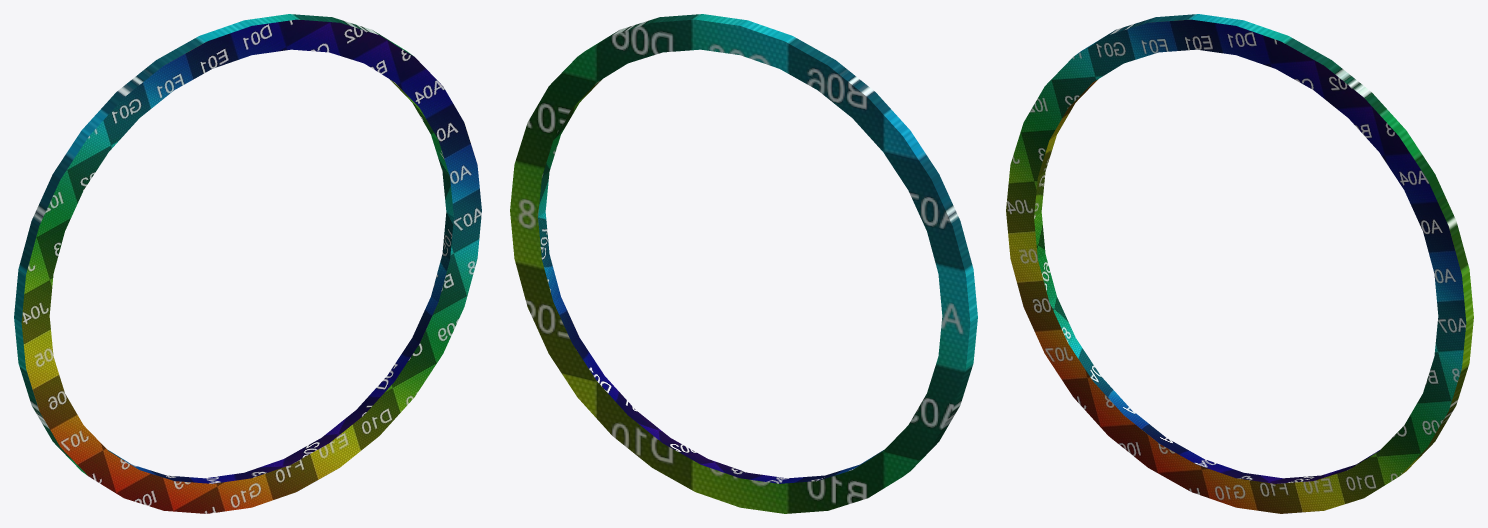
The model's file is ring2.fbx.
3 views of the same model, side by side, from view 1: azimuth 30°, elevation 25°; view 2: azimuth 150°, elevation 25°; view 3: azimuth 330°, elevation 25° (orthographic).
Parts seen in each view (by area): view 1: 柱体; view 2: 柱体; view 3: 柱体.
Boxes of the visible parts, bbox=[...] form: 柱体: bbox=[14, 14, 481, 513]; 柱体: bbox=[510, 14, 977, 513]; 柱体: bbox=[1006, 14, 1473, 513].
Bounding box in the file's own units: 2966 × 2966 × 85.11.
